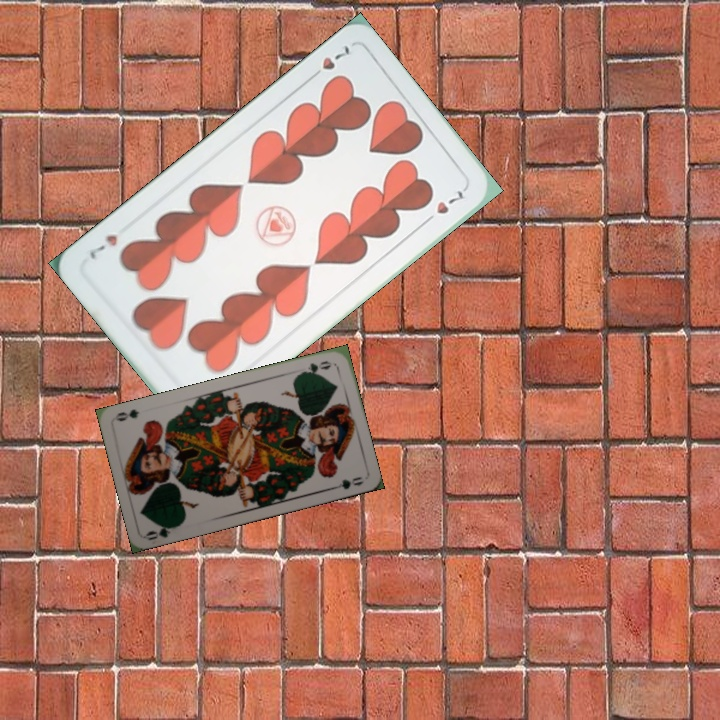GO: (143, 521, 183, 543), (296, 357, 334, 377)
H7: (306, 41, 353, 83)
